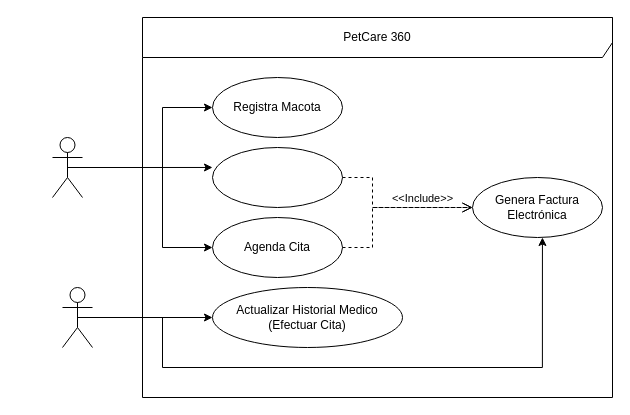
Image size: 630x415. Some labels were removed from this diagram. Here are the shapes that lost their labels. From the top down, the centre of each, then its label:
At point (67, 167): "Dueño de Mascota".
At point (277, 177): "Compra Productos".
At point (77, 317): "Veterinario".
